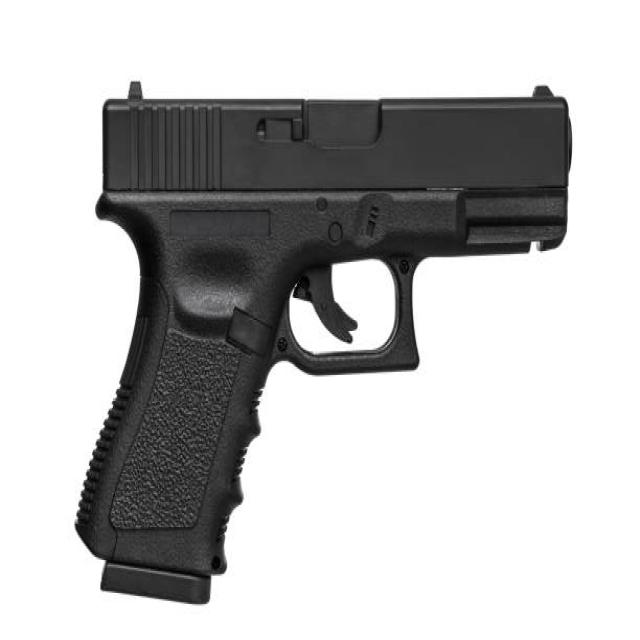pistol: (70, 78, 580, 608)
